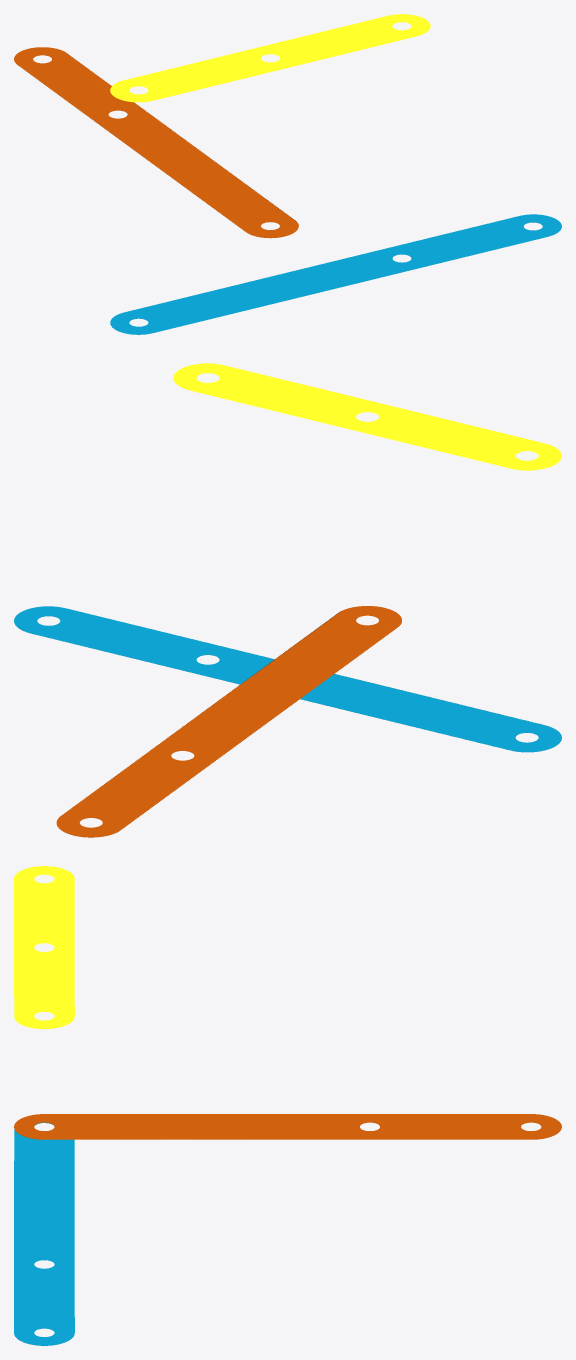
File: platform_colors.gltf
The picture shows the model from 3 angles, top to bottom: view 1: azimuth 30°, elevation 25°; view 2: azimuth 150°, elevation 25°; view 3: azimuth 270°, elevation 25°; orthographic projection. The views are drawn at different scales.
Parts seen in each view (by area): view 1: root; view 2: root; view 3: root.
Part boxes in pixels (x1,y1,x2,y2): root: [14, 14, 561, 334]; root: [14, 363, 561, 837]; root: [14, 866, 561, 1345].
Bounding box in the file's own units: 54.03 × 27.01 × 54.03.
